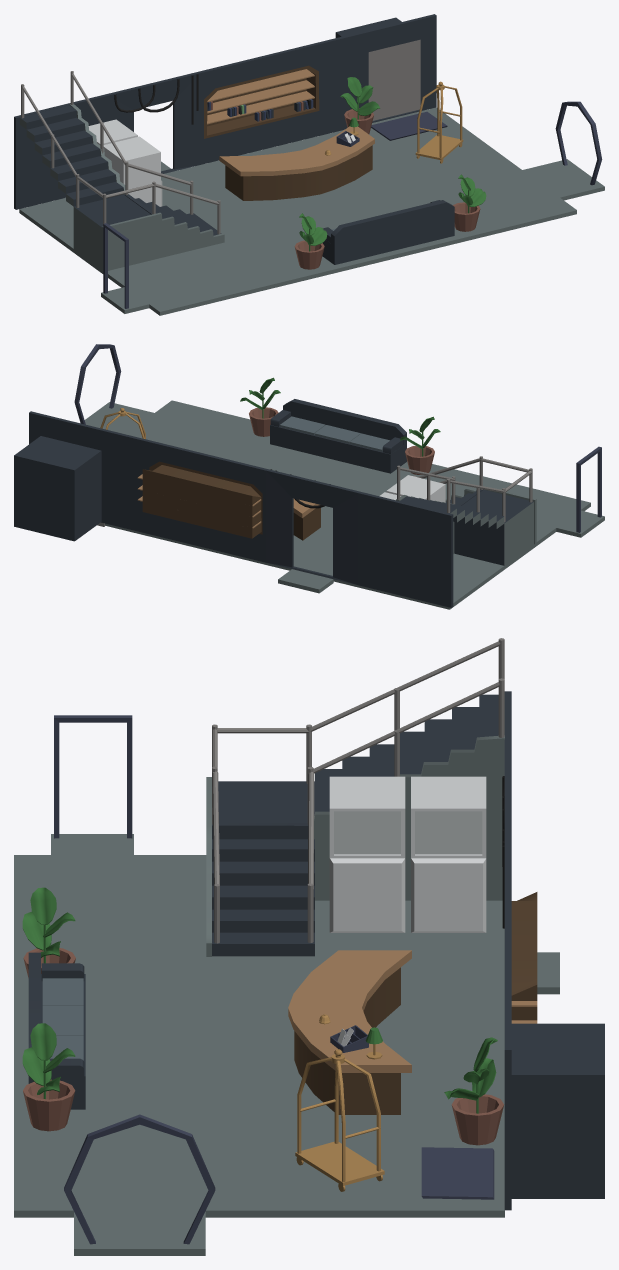
Rendered from lobby.fbx.
The picture shows the model from 3 angles, top to bottom: view 1: azimuth 30°, elevation 25°; view 2: azimuth 150°, elevation 25°; view 3: azimuth 270°, elevation 25°; orthographic projection. The views are drawn at different scales.
Parts seen in each view (by area): view 1: lobbyFloor_GEO, lobby_wall_GEO, stairs_GEO, lobby_table_GEO, couch_GEO, pasted__railings_GEO, vending_machine_1_GEO, elevator_door_2_GEO, elevator_door_1_GEO, trolleyCart_GEO1, rug_GEO, book_shelf_1_GEO (+7 smaller); view 2: lobby_wall_GEO, lobbyFloor_GEO, stairs_GEO, couch_GEO, pasted__railings_GEO, vending_machine_1_GEO, lobby_table_GEO, entrance_GEO, kitchenDoor, plant_pot_1_GEO3, plant_pot_1_GEO1, cushion_2_GEO (+2 smaller); view 3: lobbyFloor_GEO, stairs_GEO, lobby_wall_GEO, lobby_table_GEO, vending_machine_1_GEO, vending_machine_2_GEO, pasted__railings_GEO, trolleyCart_GEO1, rug_GEO, couch_GEO, entrance_GEO, plant_pot_1_GEO (+4 smaller).
Boxes of the visible parts, x1=… form: lobbyFloor_GEO: x1=19, y1=107, x2=604, y2=315; lobby_wall_GEO: x1=14, y1=14, x2=436, y2=209; stairs_GEO: x1=19, y1=104, x2=224, y2=271; lobby_table_GEO: x1=219, y1=126, x2=374, y2=200; couch_GEO: x1=322, y1=200, x2=454, y2=264; pasted__railings_GEO: x1=21, y1=71, x2=220, y2=234; vending_machine_1_GEO: x1=103, y1=136, x2=162, y2=206; elevator_door_2_GEO: x1=394, y1=39, x2=420, y2=115; elevator_door_1_GEO: x1=368, y1=46, x2=394, y2=120; trolleyCart_GEO1: x1=415, y1=81, x2=463, y2=163; rug_GEO: x1=371, y1=111, x2=447, y2=140; book_shelf_1_GEO: x1=207, y1=80, x2=314, y2=113; lobby_wall_GEO: x1=14, y1=411, x2=453, y2=607; lobbyFloor_GEO: x1=84, y1=400, x2=604, y2=609; stairs_GEO: x1=396, y1=485, x2=536, y2=565; couch_GEO: x1=270, y1=399, x2=406, y2=473; pasted__railings_GEO: x1=397, y1=456, x2=532, y2=522; vending_machine_1_GEO: x1=386, y1=475, x2=445, y2=502; lobby_table_GEO: x1=293, y1=498, x2=320, y2=540; entrance_GEO: x1=74, y1=344, x2=121, y2=424; kitchenDoor: x1=576, y1=446, x2=601, y2=532; plant_pot_1_GEO3: x1=405, y1=445, x2=434, y2=474; plant_pot_1_GEO1: x1=249, y1=407, x2=278, y2=436; cushion_2_GEO: x1=314, y1=425, x2=360, y2=443; lobbyFloor_GEO: x1=14, y1=834, x2=559, y2=1255; stairs_GEO: x1=206, y1=694, x2=504, y2=956; lobby_wall_GEO: x1=504, y1=691, x2=604, y2=1210; lobby_table_GEO: x1=288, y1=950, x2=411, y2=1114; vending_machine_1_GEO: x1=329, y1=776, x2=405, y2=932; vending_machine_2_GEO: x1=411, y1=776, x2=486, y2=932; pasted__railings_GEO: x1=212, y1=638, x2=504, y2=943; trolleyCart_GEO1: x1=295, y1=1049, x2=384, y2=1191; rug_GEO: x1=421, y1=1147, x2=494, y2=1199; couch_GEO: x1=28, y1=952, x2=85, y2=1109; entrance_GEO: x1=64, y1=1114, x2=215, y2=1244; plant_pot_1_GEO: x1=451, y1=1094, x2=503, y2=1145.
Bounding box in the file's own units: 1591 × 405 × 958.
